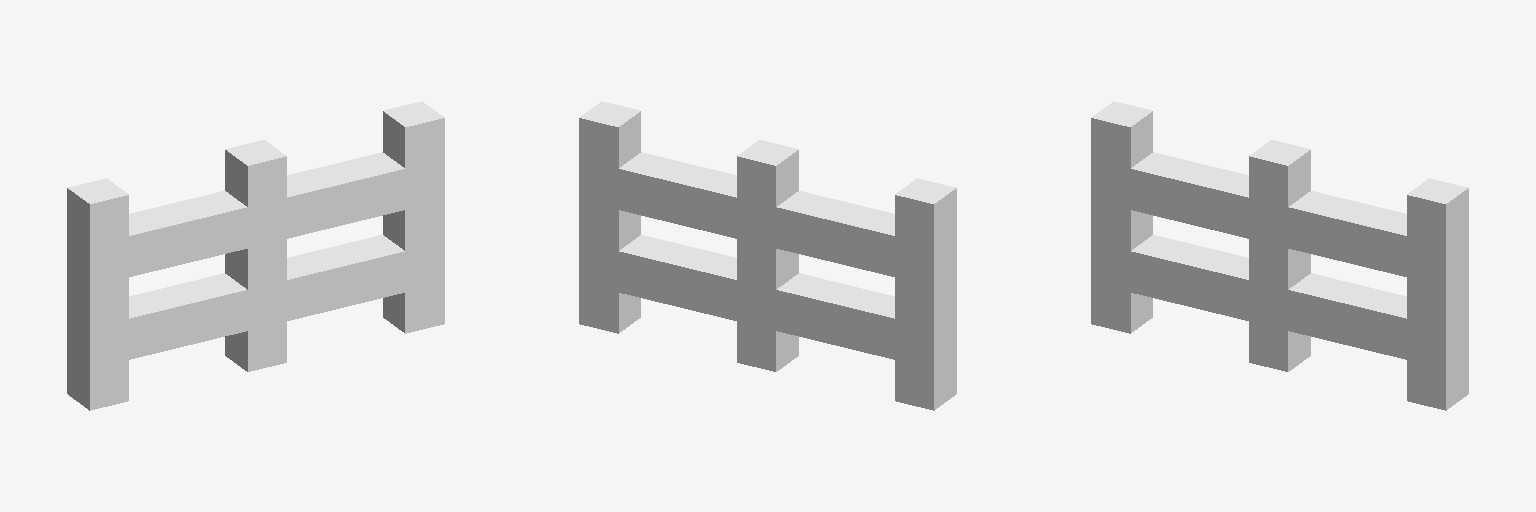
Rendered from Fence.obj.
3 renders of one model, left to right at view 1: azimuth 30°, elevation 25°; view 2: azimuth 150°, elevation 25°; view 3: azimuth 330°, elevation 25°, orthographic.
Visible parts, largest first — view 1: object 1; view 2: object 1; view 3: object 1.
Part boxes in pixels (x1,y1,x2,y2): object 1: (67,101,444,410); object 1: (579,101,956,410); object 1: (1091,101,1468,410).
Size of the model in its own units: 0.9 by 0.5 by 0.1.